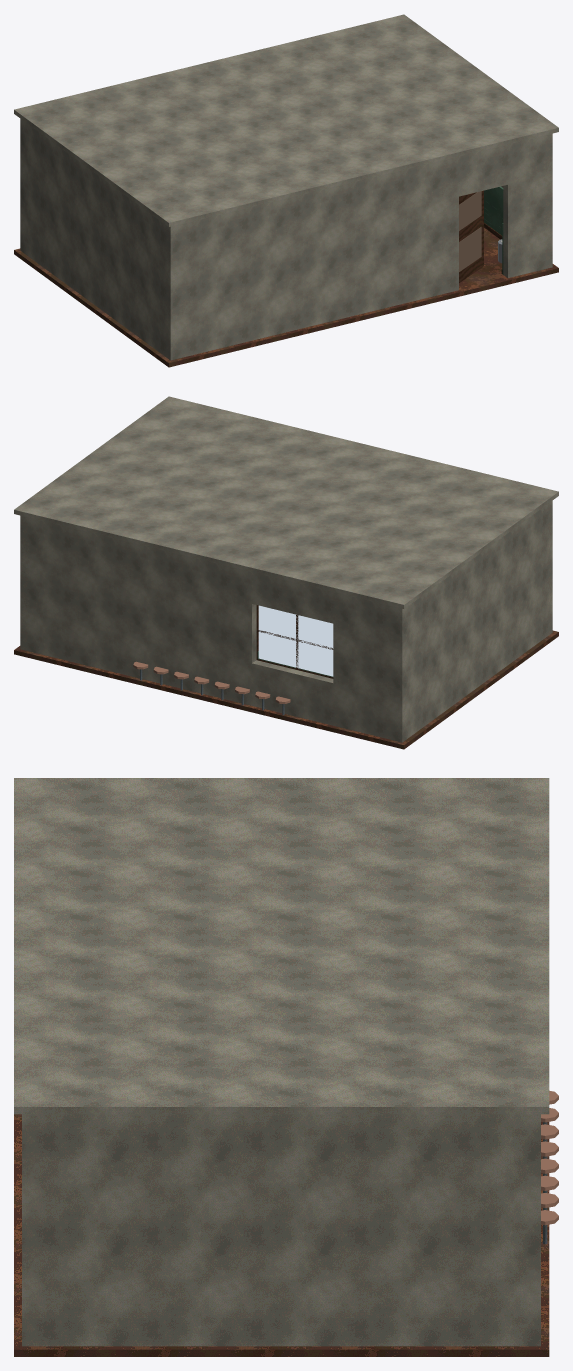
The model's file is ep_decreto.glb.
3 views of the same model, one above another, from view 1: azimuth 30°, elevation 25°; view 2: azimuth 150°, elevation 25°; view 3: azimuth 270°, elevation 25° (orthographic). The views are drawn at different scales.
Visible parts, largest first — view 1: plaster-col, linoleum-col, flat, wood_dark, paint_green; view 2: plaster-col, linoleum-col, flat.002, flat.007, wood_dark; view 3: plaster-col, linoleum-col, flat.007.
Boxes of the visible parts, <box> form: plaster-col: <box>14,14,558,360</box>; linoleum-col: <box>14,228,558,367</box>; flat: <box>459,191,481,271</box>; wood_dark: <box>459,190,502,282</box>; paint_green: <box>484,186,503,274</box>; plaster-col: <box>14,396,558,742</box>; linoleum-col: <box>14,630,558,749</box>; flat.002: <box>258,605,333,676</box>; flat.007: <box>133,661,290,703</box>; wood_dark: <box>256,605,333,678</box>; plaster-col: <box>14,778,549,1346</box>; linoleum-col: <box>14,1114,549,1356</box>; flat.007: <box>541,1090,558,1225</box>.
Bounding box in the file's own units: 9.6 × 3.4 × 6.72.
37 materials, 11 textured.
